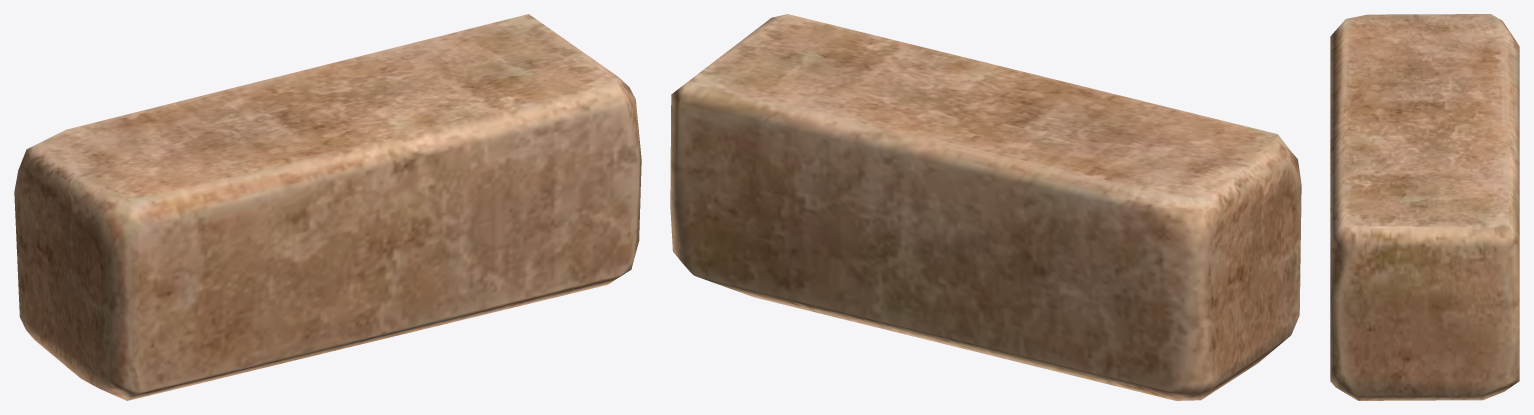
3 renders of one model, left to right at view 1: azimuth 30°, elevation 25°; view 2: azimuth 150°, elevation 25°; view 3: azimuth 270°, elevation 25°, orthographic. The views are drawn at different scales.
Visible parts, largest first — view 1: SM_Human_Ruins_Brick_01_LOD0; view 2: SM_Human_Ruins_Brick_01_LOD0; view 3: SM_Human_Ruins_Brick_01_LOD0.
Boxes of the visible parts, x1,y1,x2,y2 form: SM_Human_Ruins_Brick_01_LOD0: (14, 14, 641, 400); SM_Human_Ruins_Brick_01_LOD0: (670, 14, 1301, 400); SM_Human_Ruins_Brick_01_LOD0: (1330, 14, 1519, 400).
Bounding box in the file's own units: 0.35 × 0.125 × 0.125.
1 material, 1 textured.
